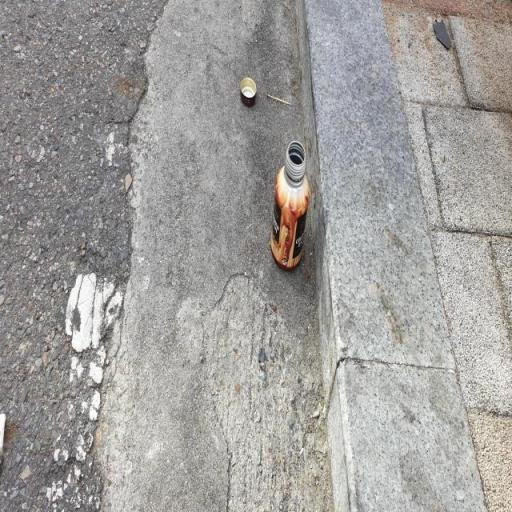metal: (266, 132, 316, 279), (238, 68, 262, 114)
